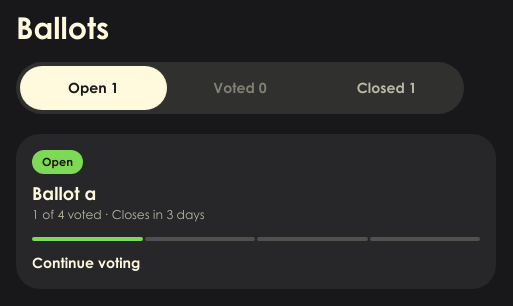
Scenario: BallotsPage › Open | Closed with counts; Open by default; closed ballots only under Closed
The width and height of the screenshot is (513, 306).
expect the heading "Ballot a" is shown: met, box [32, 182, 96, 204]
expect the text "Ballot c" is not shown: met
Click the tab "Closed 1".
click(387, 88)  # box [313, 66, 460, 110]
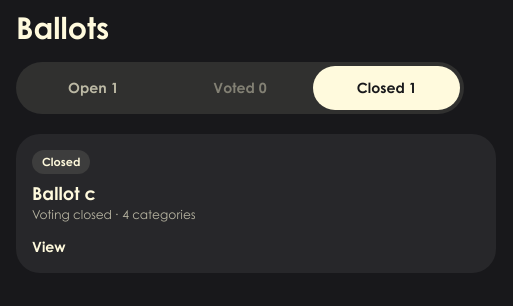
expect the link "Ballot a" is gone: met
expect the heading "Ballot c" is shown: met, box [32, 182, 96, 204]
expect the text "Closed" is shown: met, box [32, 150, 90, 174]
